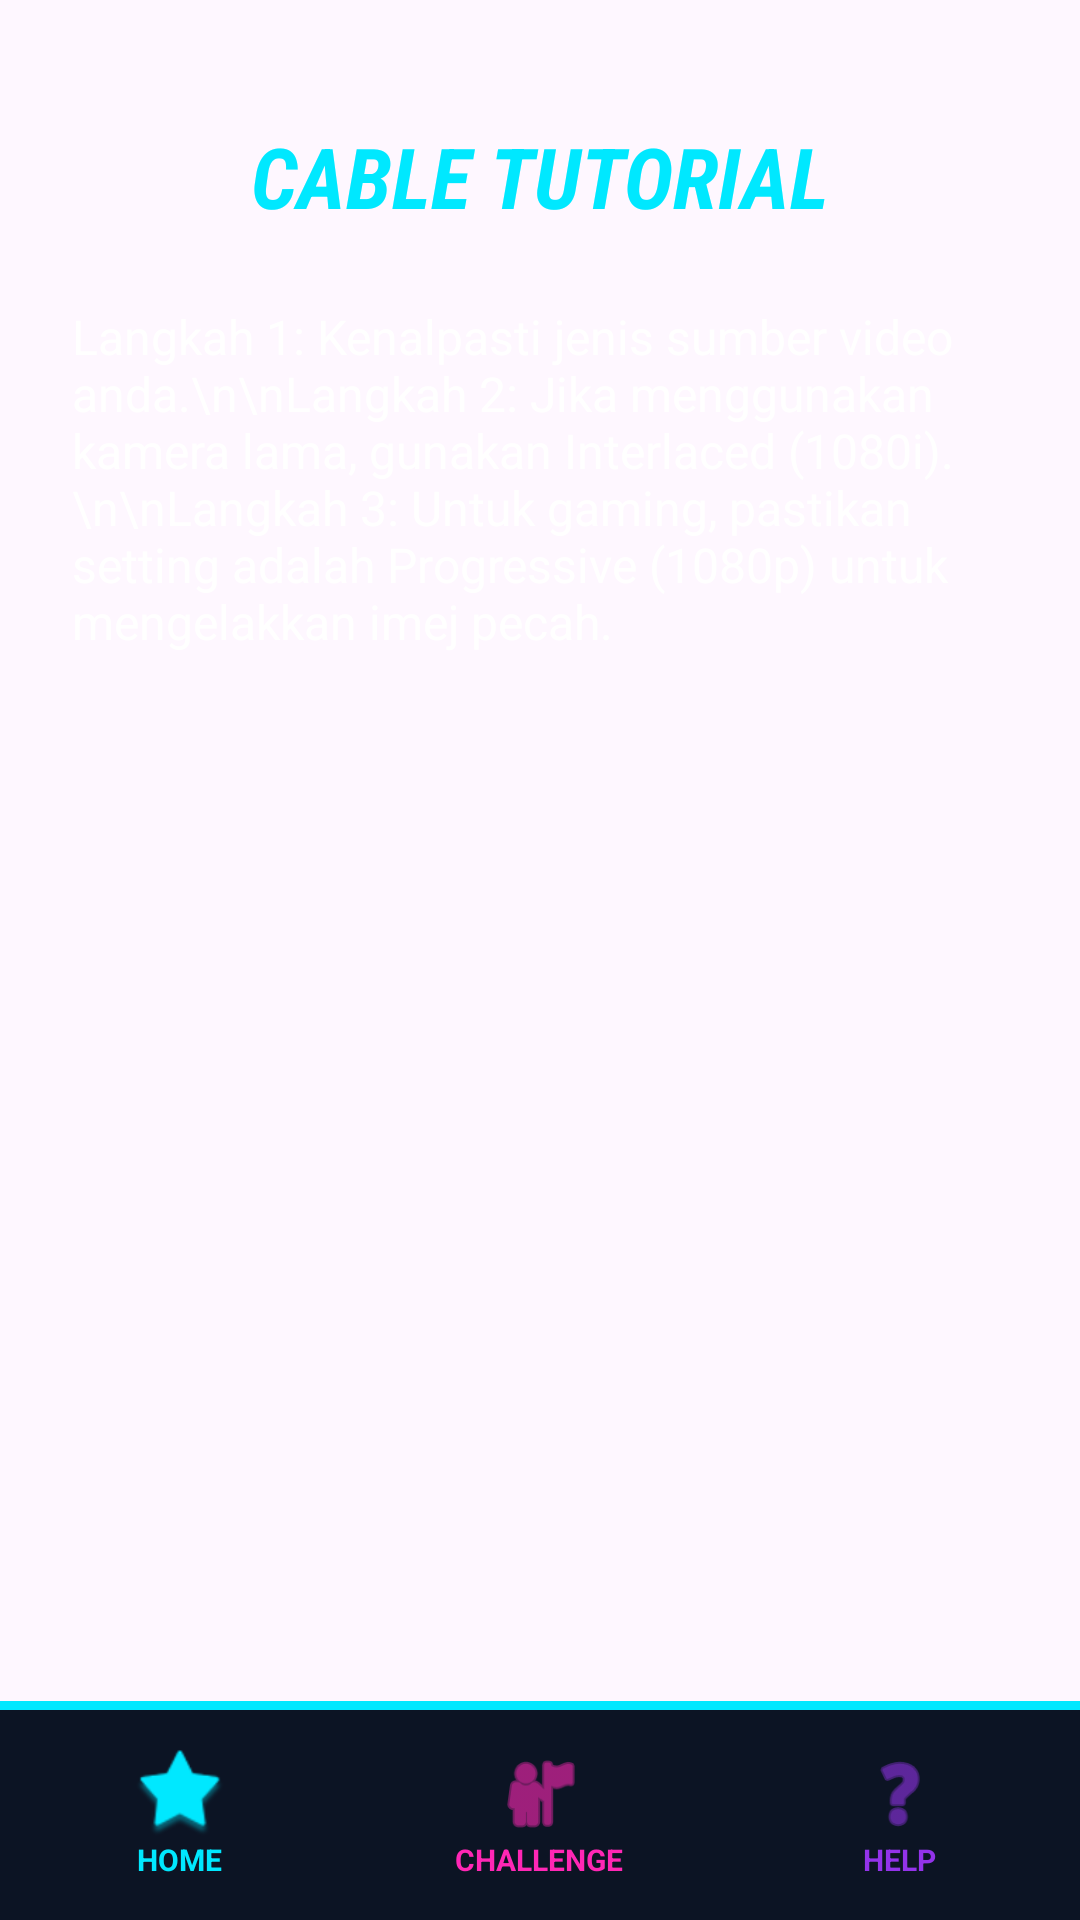

Icon click points for this 1080x1920 phone screenshot, format (x,y):
star on: (180,1790)
